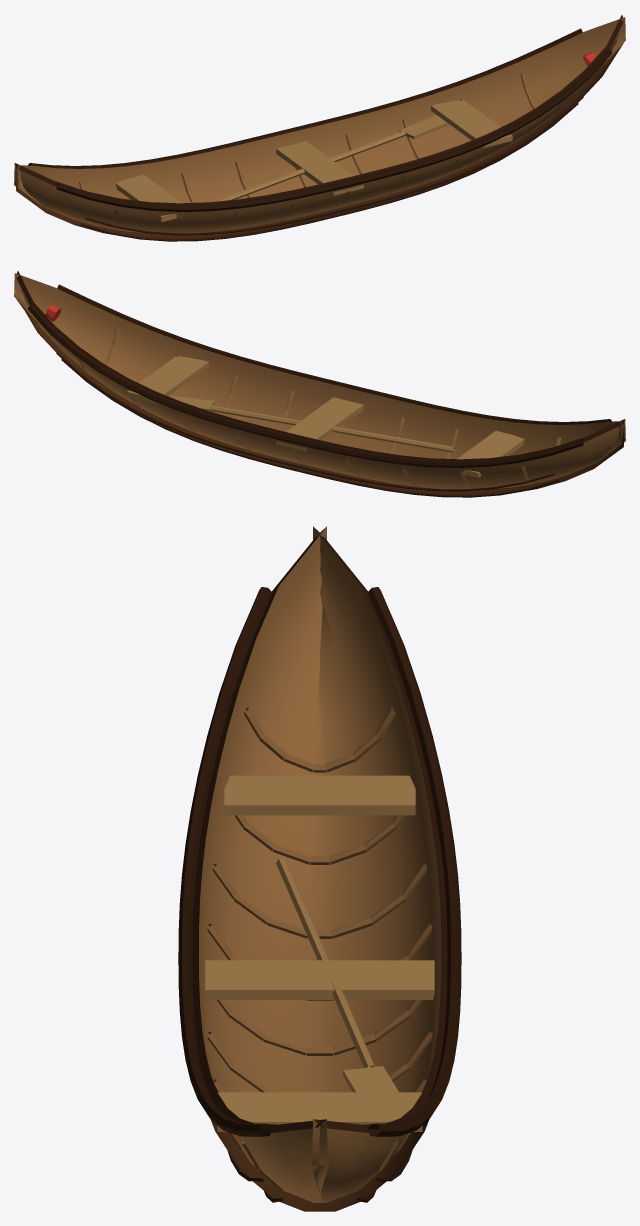
File: wooden_sampan.glb
3 renders of one model, top to bottom at view 1: azimuth 30°, elevation 25°; view 2: azimuth 150°, elevation 25°; view 3: azimuth 270°, elevation 25°, orthographic. The views are drawn at different scales.
Visible parts, largest first — view 1: wooden_sampan; view 2: wooden_sampan; view 3: wooden_sampan.
Part boxes in pixels (x1=…): wooden_sampan: x1=14, y1=15, x2=625, y2=241; wooden_sampan: x1=14, y1=271, x2=625, y2=497; wooden_sampan: x1=178, y1=526, x2=461, y2=1211.
Size of the model in its own units: 4.4 by 0.8337 by 0.888.
